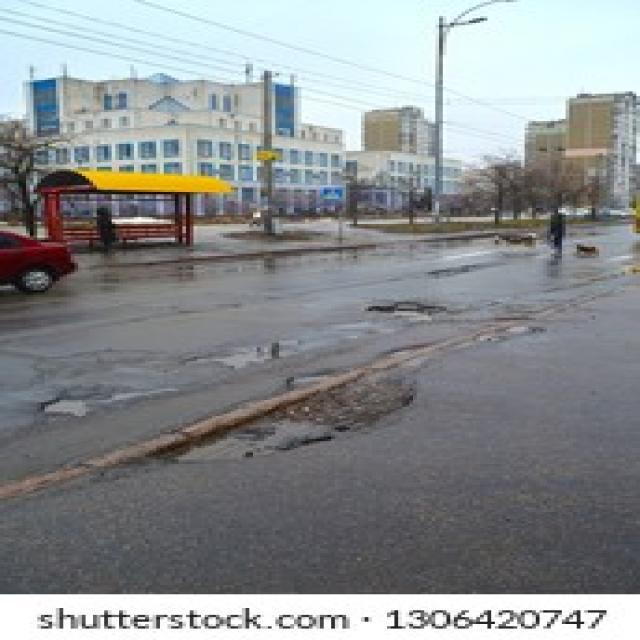Pothole: (156, 364, 417, 468), (368, 302, 446, 324), (33, 398, 97, 420)
